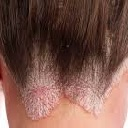Psoriasis: (24, 59, 115, 119)
